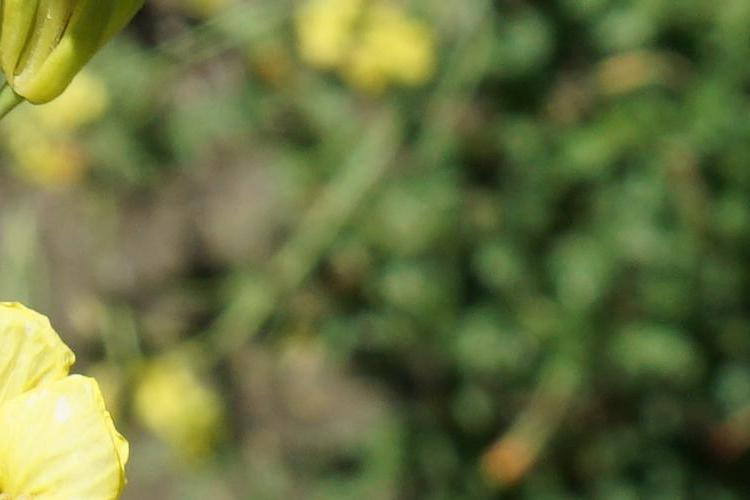yellow: (4, 288, 131, 500)
